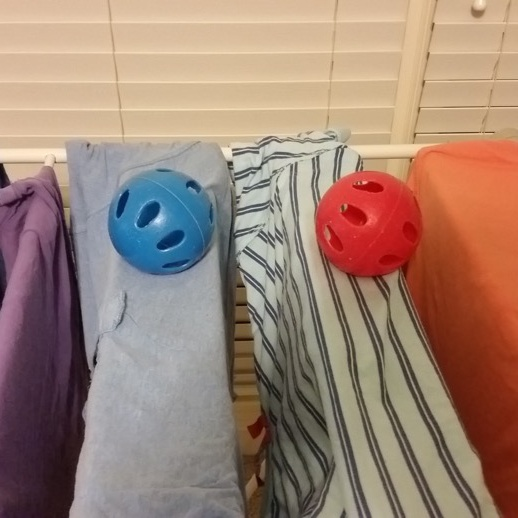ball: (104, 164, 220, 280), (311, 167, 427, 280)
